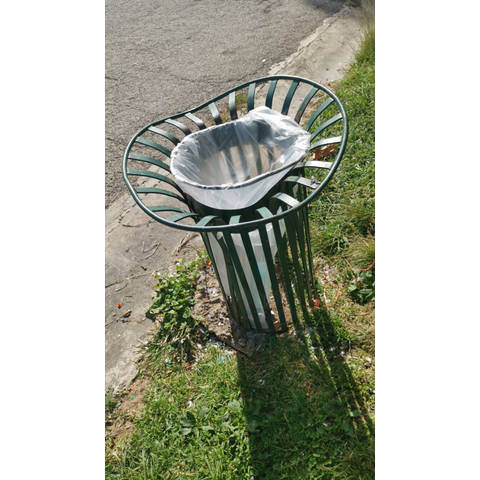poubelle: (120, 73, 356, 329)
